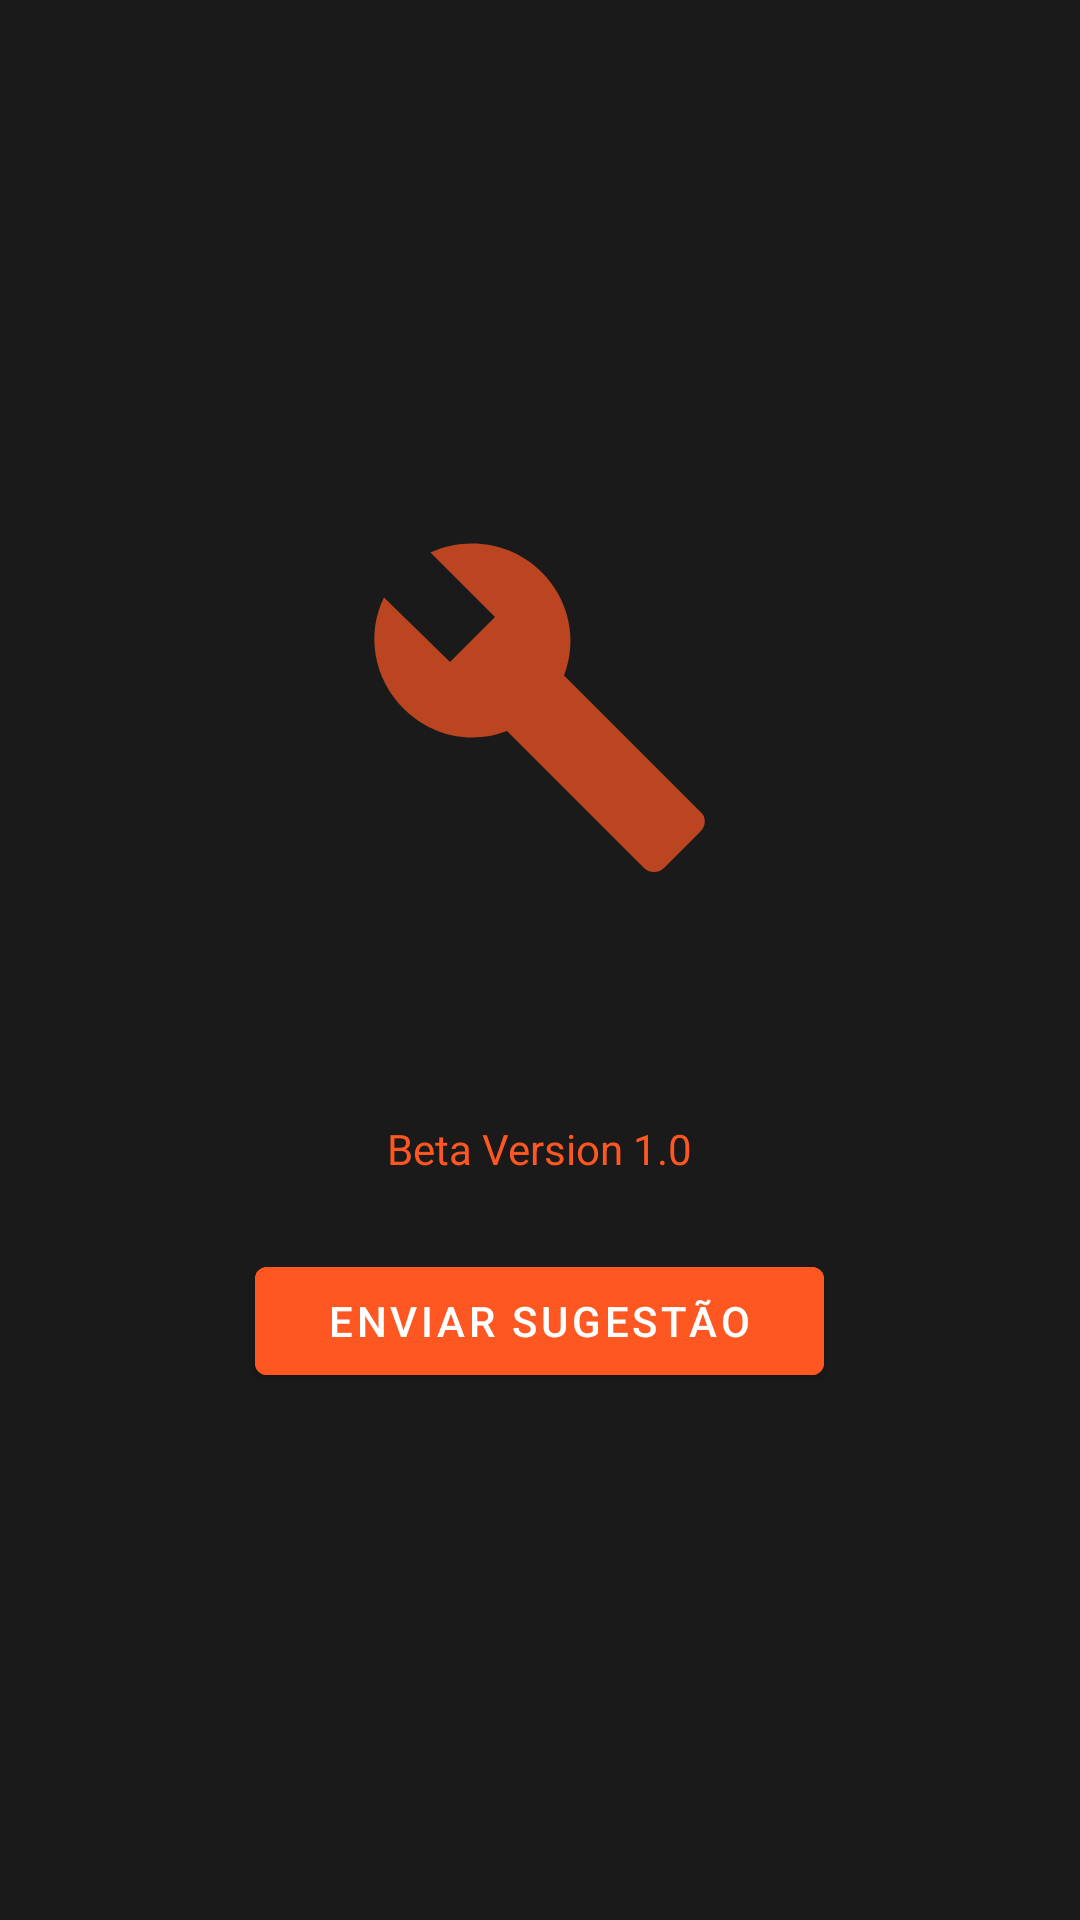

Screen size 1080 x 1920. Icon name, then its center in pixels as point (x, y):
coming soon: point (539, 707)
